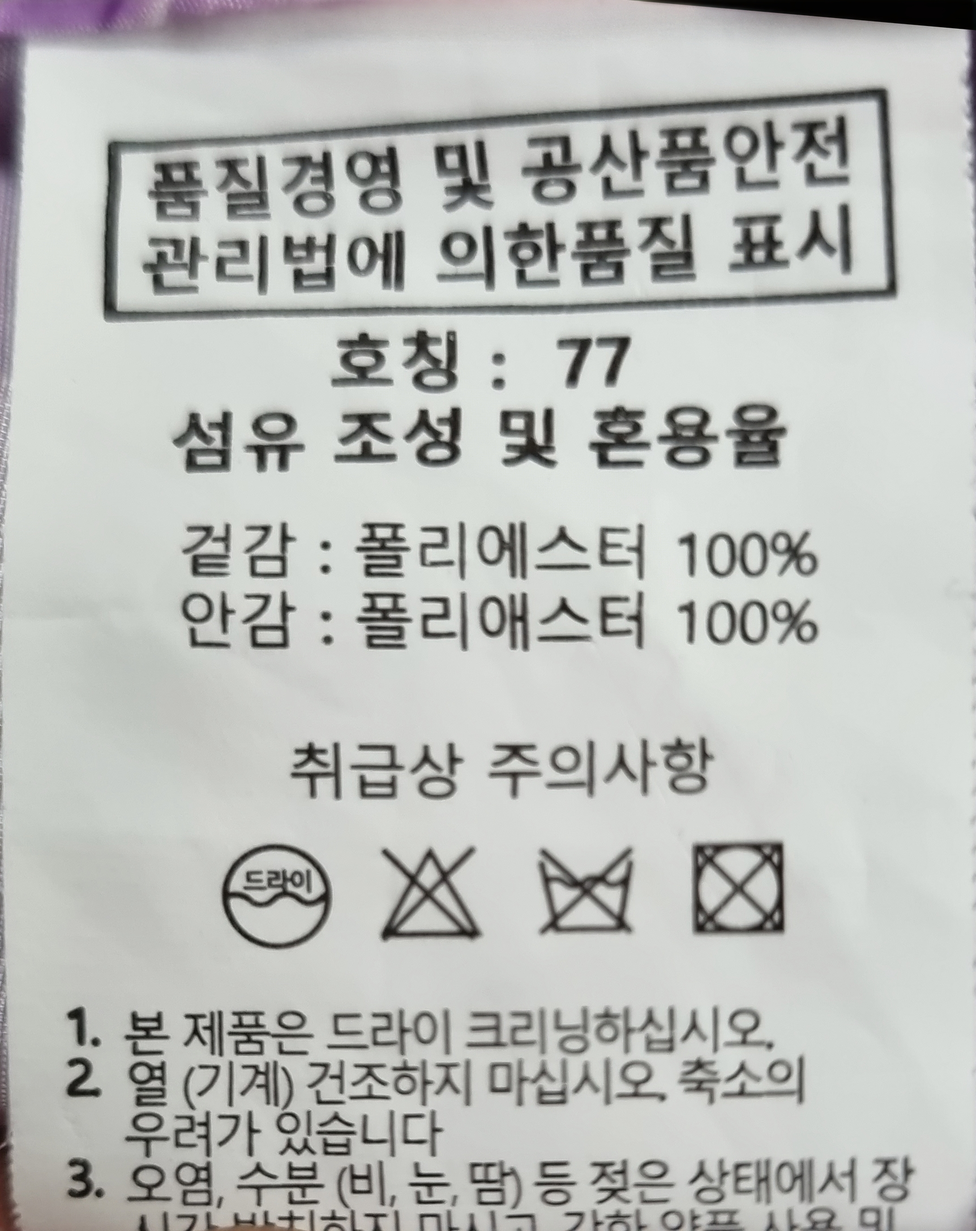KR_dry_clean: (204, 829, 337, 962)
KR_no_wash: (526, 834, 656, 954)
